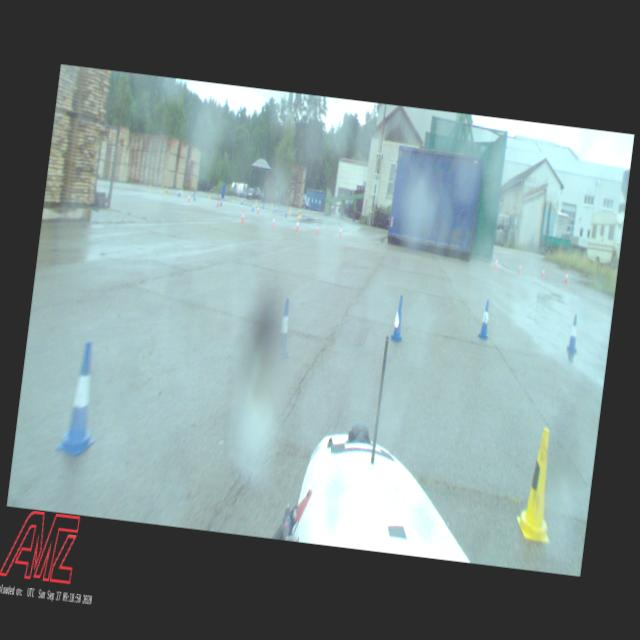blue_cone: (55, 339, 106, 458), (274, 298, 296, 360), (390, 294, 408, 344), (565, 313, 581, 359), (476, 299, 492, 341)
orange_cone: (270, 214, 276, 228), (294, 218, 300, 231), (517, 261, 522, 274), (240, 208, 244, 222), (541, 266, 545, 280), (494, 256, 498, 269), (338, 225, 342, 238), (564, 270, 568, 283), (256, 204, 260, 214), (315, 223, 318, 234)
yellow_cone: (513, 426, 563, 544), (164, 188, 168, 197), (297, 208, 300, 218)
